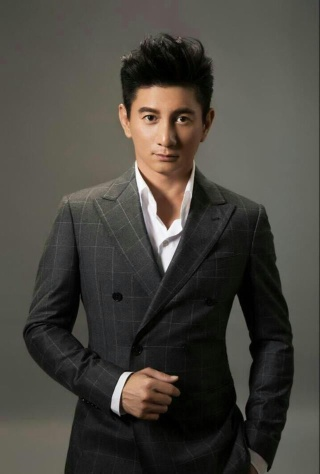male: (112, 34, 223, 189)
